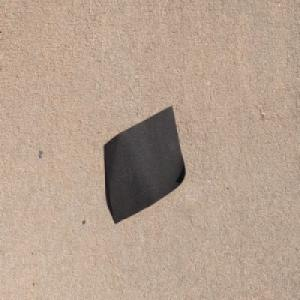PaintChip: (103, 104, 186, 225)
